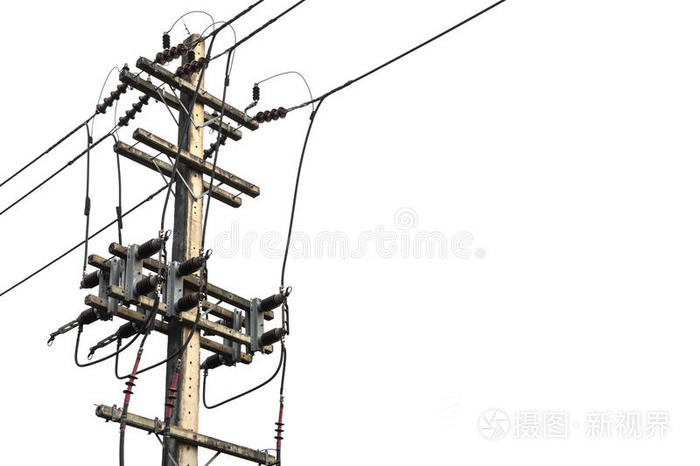insulator: (94, 84, 127, 114), (116, 96, 149, 126), (174, 55, 212, 79), (154, 43, 188, 64), (254, 106, 293, 122), (202, 137, 228, 158)
